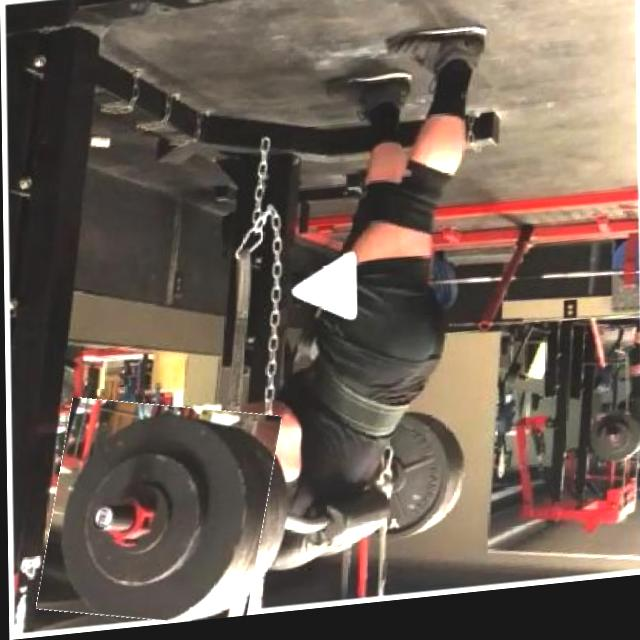barbell: (42, 393, 275, 638)
